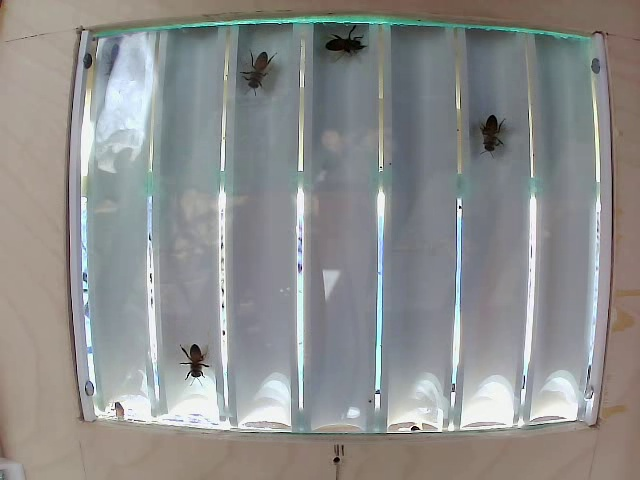bee: (468, 102, 516, 177), (317, 24, 370, 70), (170, 336, 219, 375), (248, 48, 277, 94)
